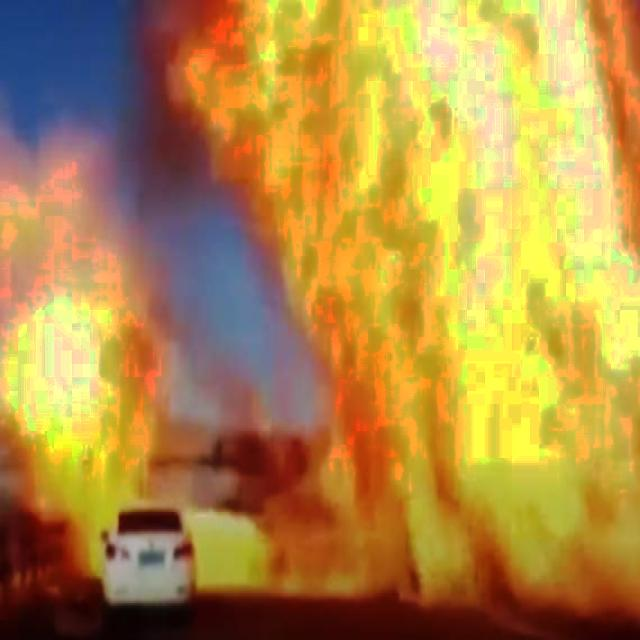api: (256, 208, 640, 618), (177, 8, 640, 198), (1, 210, 125, 510), (192, 506, 254, 587)
